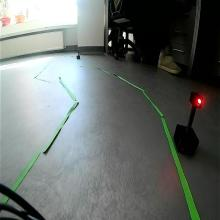red: (188, 90, 203, 109)
